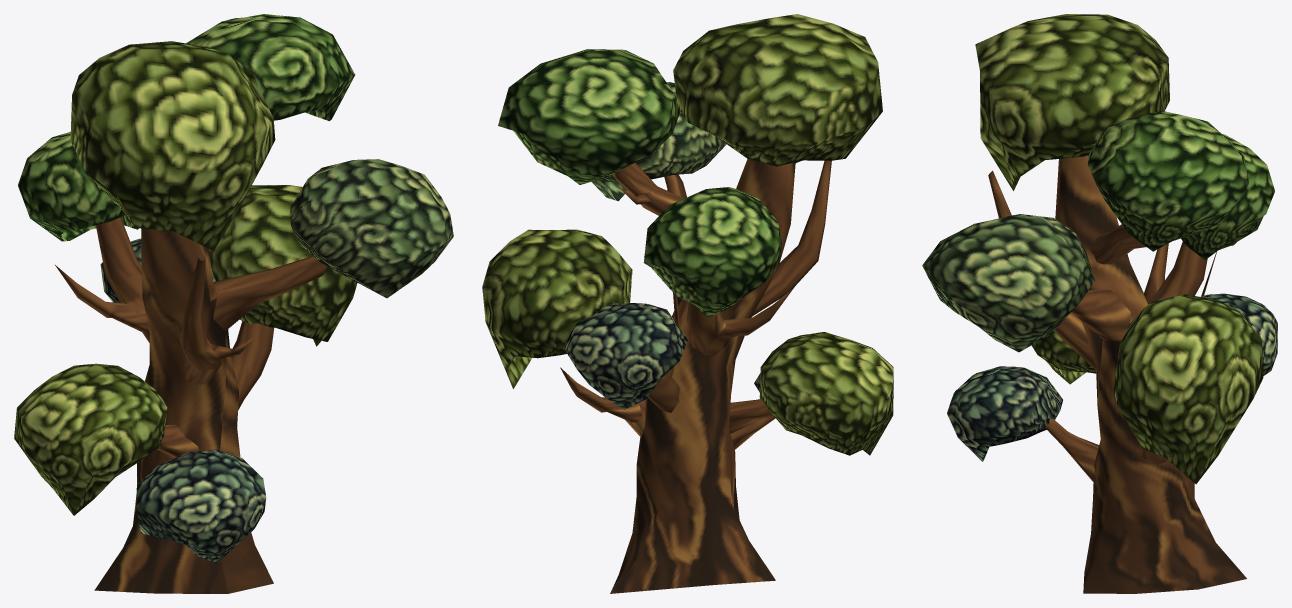
The model's file is Ntree_4.fbx.
3 renders of one model, left to right at view 1: azimuth 30°, elevation 25°; view 2: azimuth 150°, elevation 25°; view 3: azimuth 270°, elevation 25°, orthographic. The views are drawn at different scales.
Parts seen in each view (by area): view 1: Ntree_4; view 2: Ntree_4; view 3: Ntree_4.
Boxes of the visible parts, x1,y1,x2,y2 form: Ntree_4: (14,14,453,593); Ntree_4: (482,14,893,593); Ntree_4: (922,14,1277,593).
Size of the model in its own units: 245 by 347 by 216.
